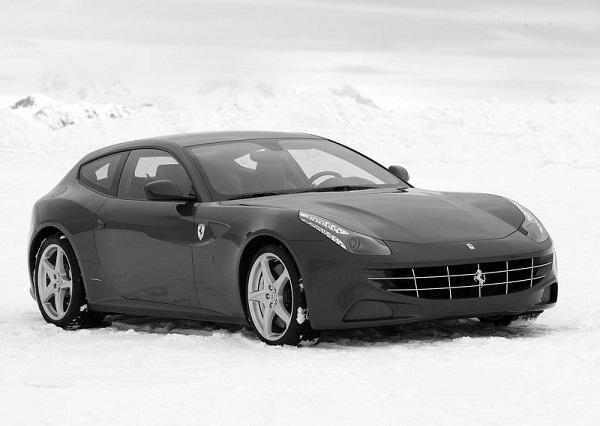car: (27, 131, 560, 350)
